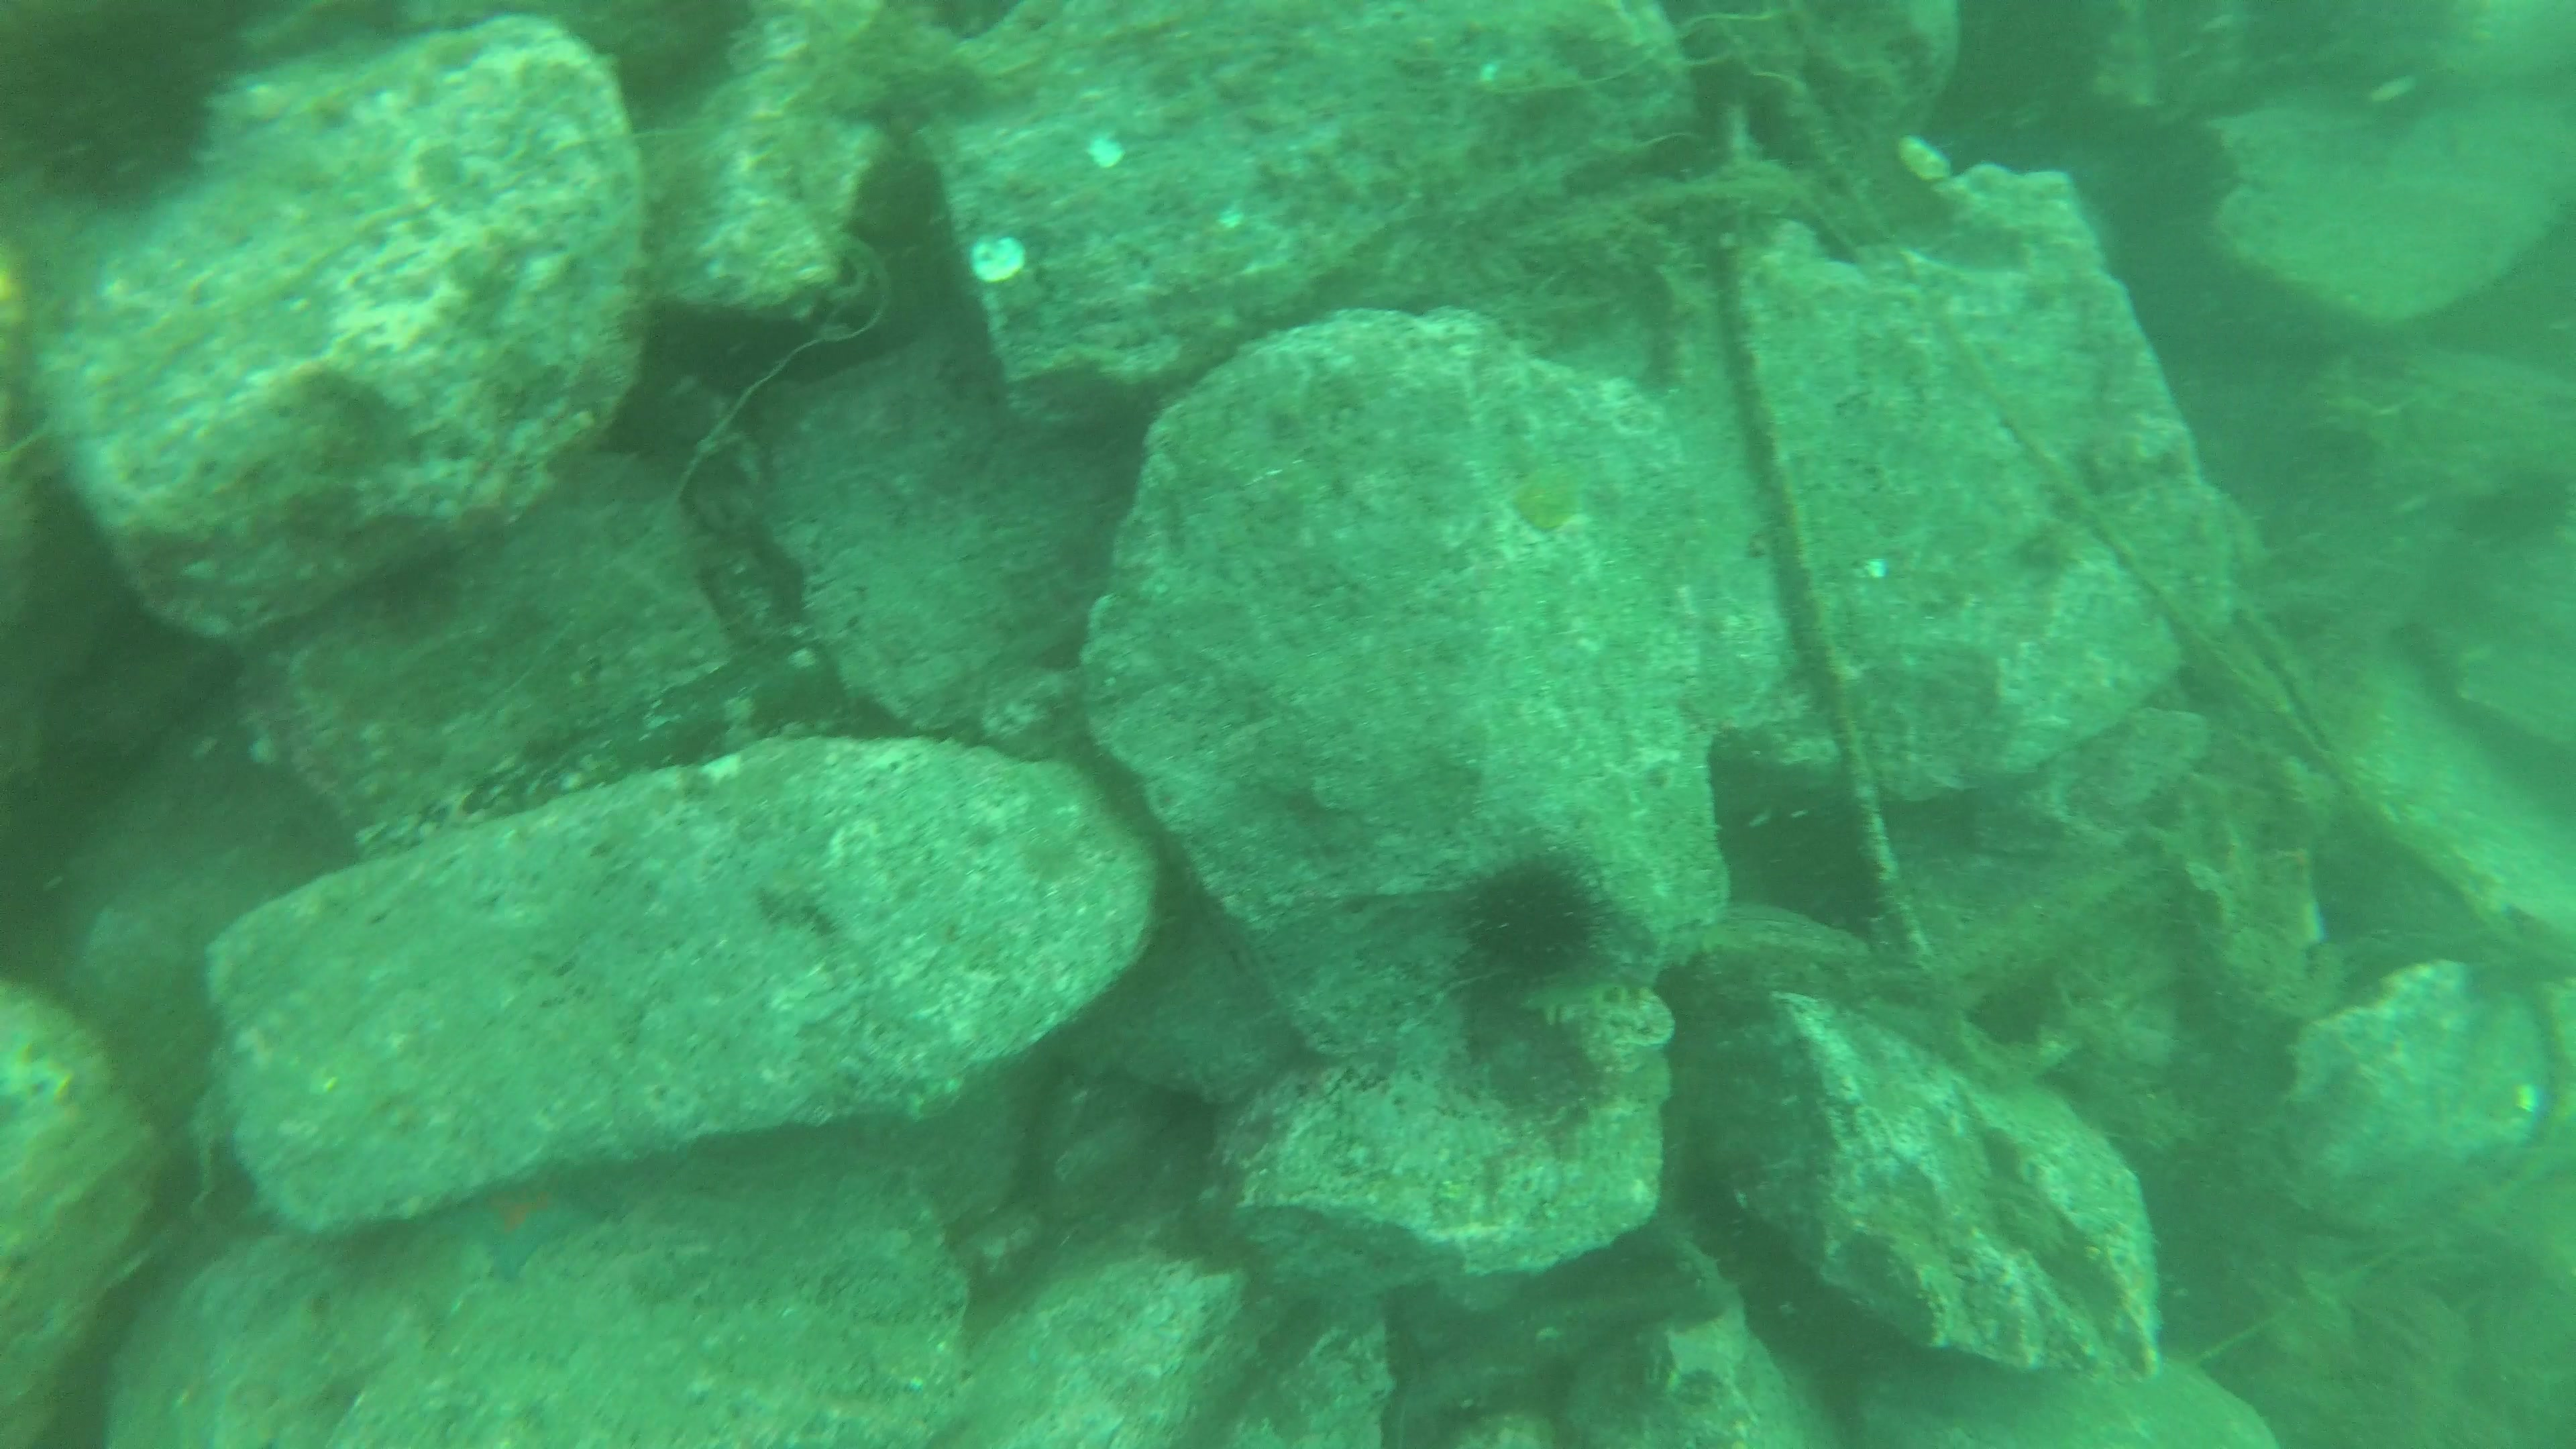echinus: (18, 18, 212, 212), (1721, 810, 1898, 950), (1476, 849, 1615, 973)
scallop: (962, 226, 1031, 288), (1891, 126, 1959, 188), (1081, 129, 1132, 175)
